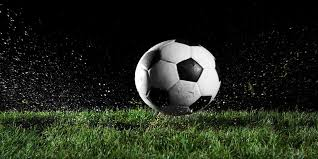football ball: (128, 38, 226, 117)
